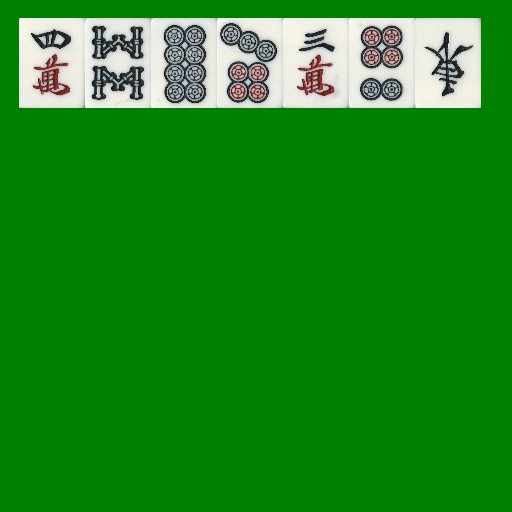3m: (283, 18, 349, 108)
4m: (19, 18, 85, 108)
6p: (349, 18, 415, 108)
7p: (217, 18, 283, 108)
8p: (151, 18, 217, 108)
8s: (85, 18, 151, 108)
east: (415, 18, 481, 108)
